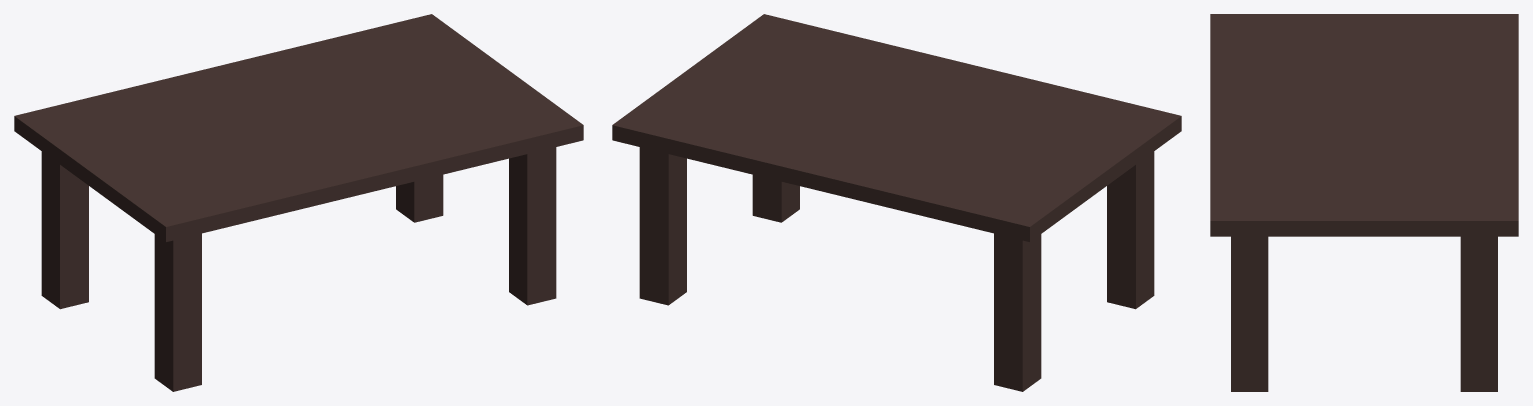
The model's file is Table.fbx.
The picture shows the model from 3 angles, left to right: view 1: azimuth 30°, elevation 25°; view 2: azimuth 150°, elevation 25°; view 3: azimuth 270°, elevation 25°; orthographic projection.
Visible parts, largest first — view 1: Cube; view 2: Cube; view 3: Cube.
Part boxes in pixels (left/top/right/bottom): Cube: left=14, top=14, right=583, bottom=391; Cube: left=612, top=14, right=1181, bottom=391; Cube: left=1210, top=14, right=1518, bottom=391.
Size of the model in its own units: 367 by 148 by 231.
